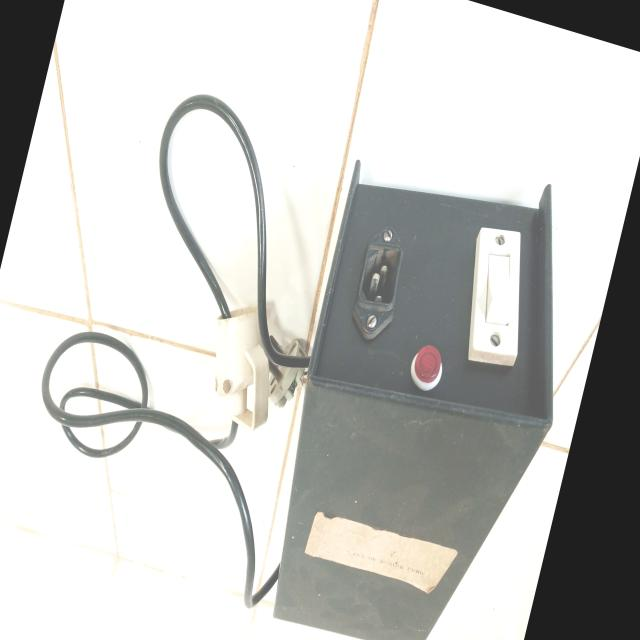Sodium Lamp Power Supply: (244, 130, 612, 640)
